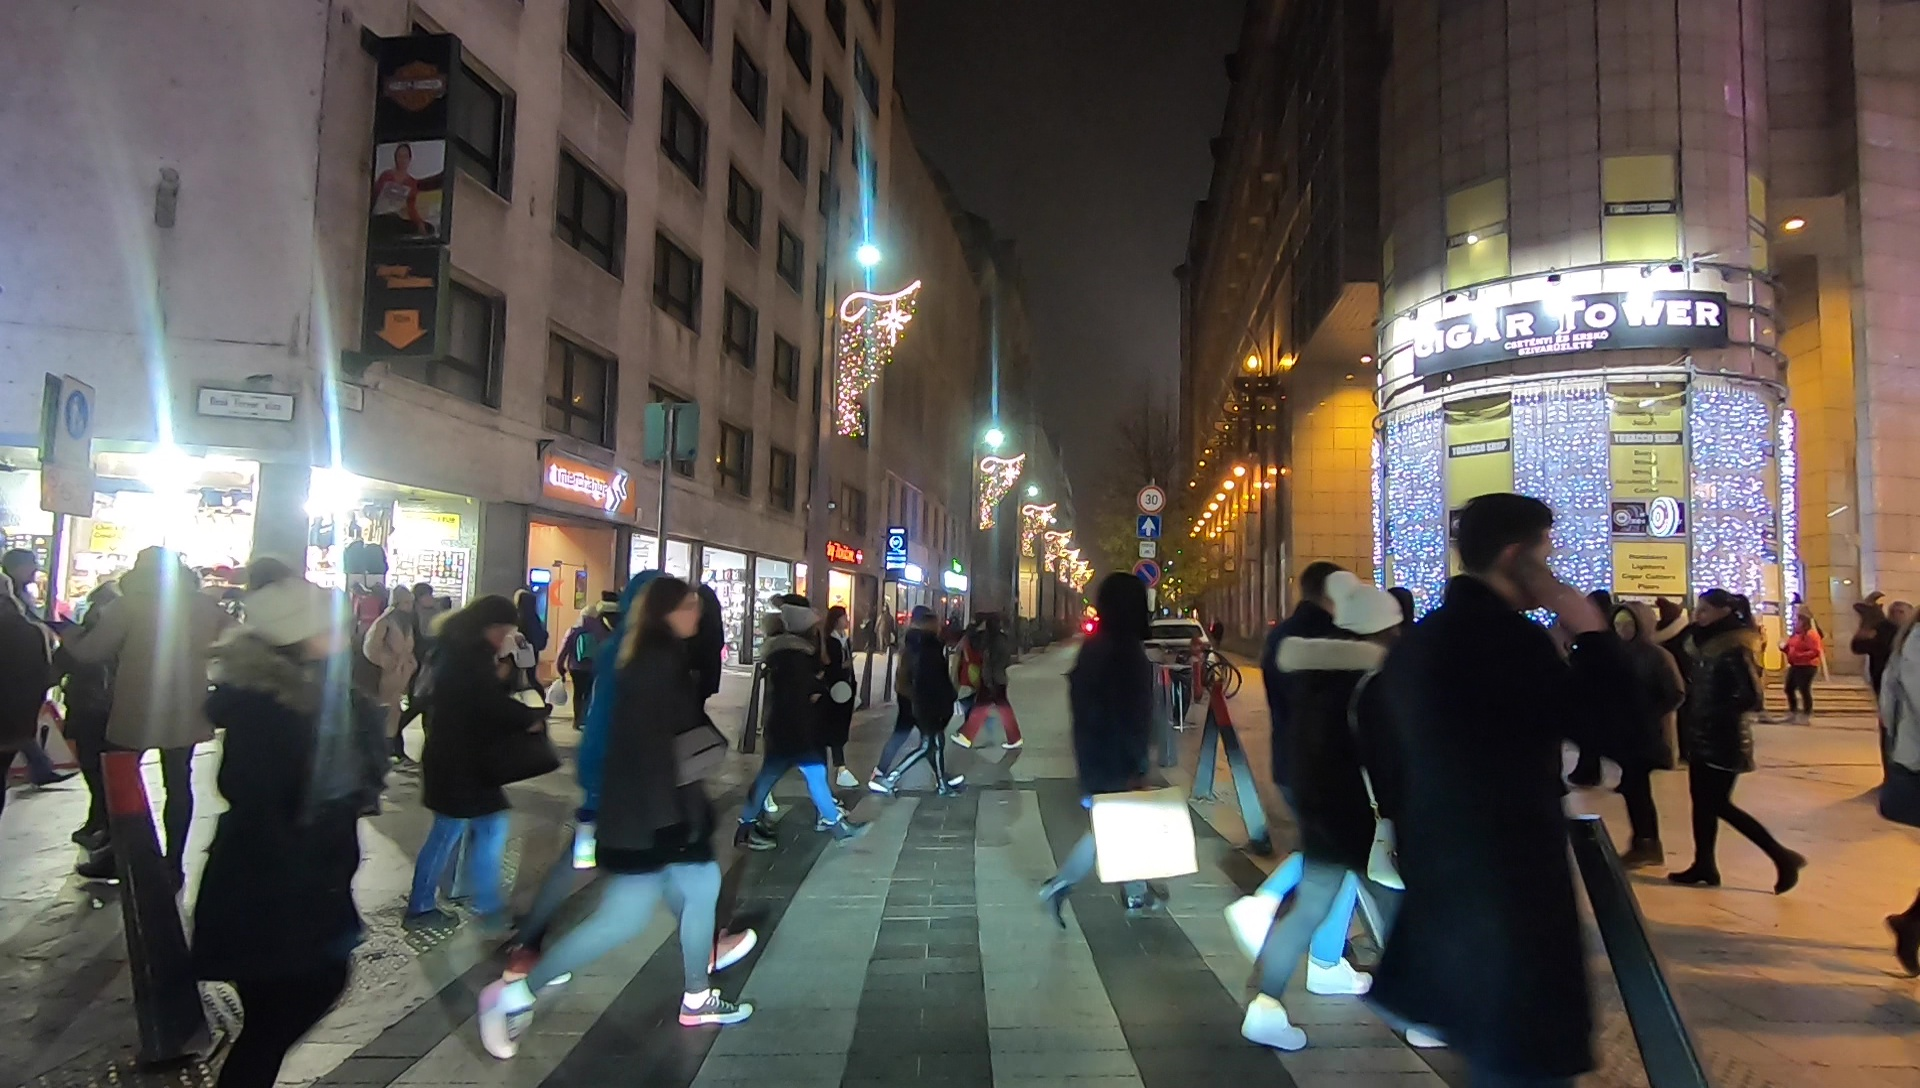person: (472, 576, 745, 1056), (1381, 501, 1593, 1088), (1237, 569, 1448, 1056), (200, 542, 358, 1072), (1042, 565, 1171, 918), (404, 586, 525, 938), (102, 534, 204, 887), (1683, 598, 1800, 896), (734, 606, 867, 851), (1603, 601, 1673, 876), (879, 605, 957, 792), (1850, 591, 1907, 799), (361, 580, 415, 751), (960, 615, 1022, 755), (403, 582, 449, 756), (1775, 605, 1823, 711)
